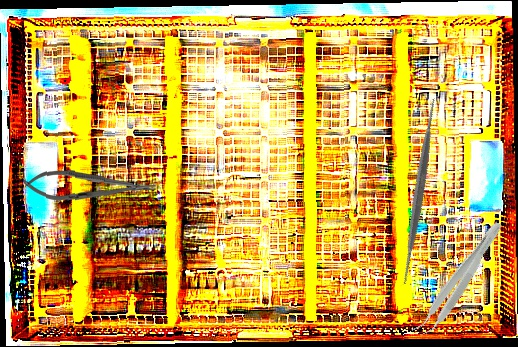Needle Holder: (23, 168, 156, 205)
Spatula Surgical: (321, 93, 517, 290)
Tissue Forceps: (410, 215, 507, 343)
